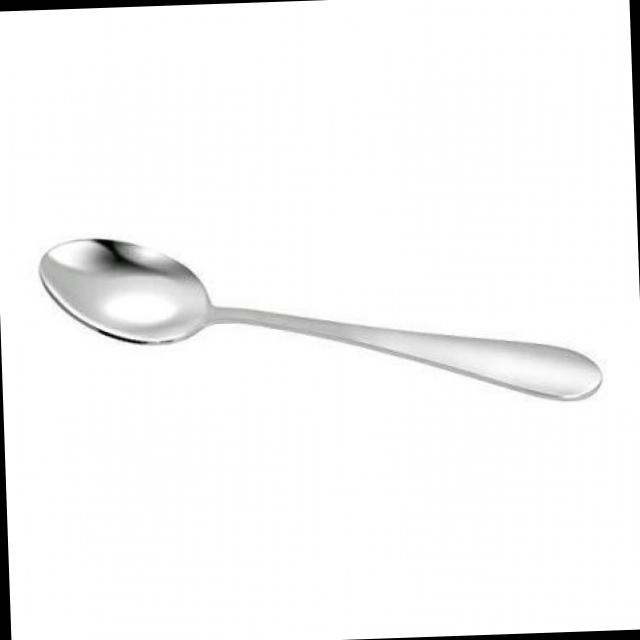spoon: (33, 210, 613, 450)
